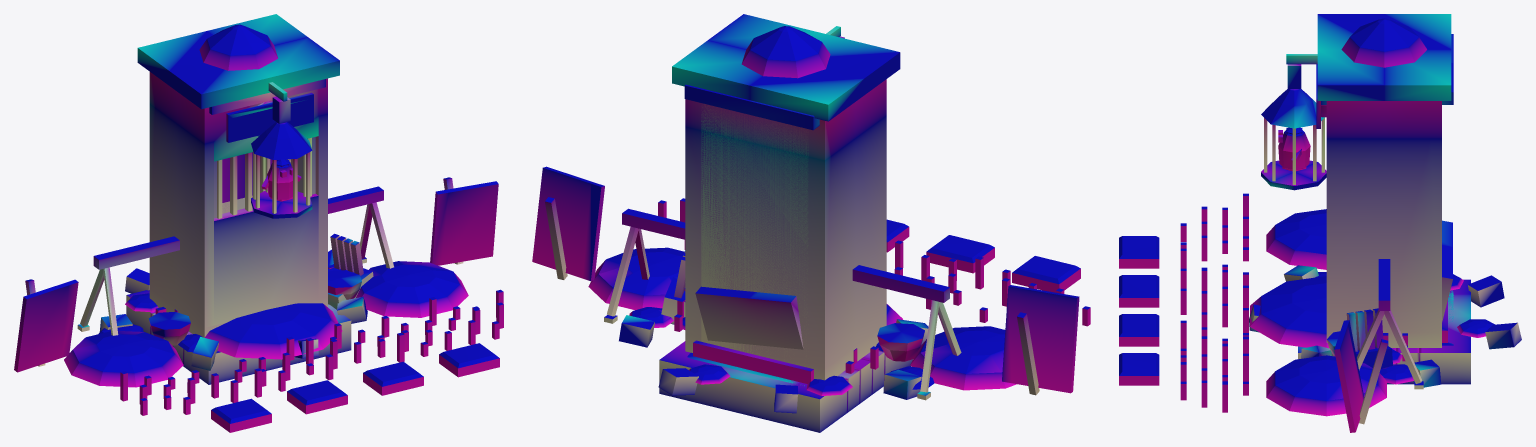
Rendered from uncanny_kit.glb.
3 views of the same model, side by side, from view 1: azimuth 30°, elevation 25°; view 2: azimuth 150°, elevation 25°; view 3: azimuth 270°, elevation 25° (orthographic). The views are drawn at different scales.
Visible parts, largest first — view 1: booth_testimony, offerings_heap, booth_line_of_dead, cage_trap, secreto_barrier, idol_surfacing, claw_scored_slab, cage_trap_lechuza, petals_marigold; view 2: booth_testimony, offerings_heap, booth_line_of_dead, idol_surfacing, claw_scored_slab, secreto_barrier, candles_drift, petals_marigold; view 3: booth_testimony, offerings_heap, idol_surfacing, cage_trap, booth_line_of_dead, claw_scored_slab, secreto_barrier, cage_trap_lechuza, petals_marigold, candles_drift.
Part boxes in pixels (x1=…): booth_testimony: x1=137, y1=14, x2=339, y2=337; offerings_heap: x1=14, y1=177, x2=503, y2=432; booth_line_of_dead: x1=199, y1=24, x2=325, y2=218; cage_trap: x1=237, y1=82, x2=312, y2=218; secreto_barrier: x1=77, y1=186, x2=393, y2=335; idol_surfacing: x1=99, y1=233, x2=373, y2=370; claw_scored_slab: x1=126, y1=290, x2=351, y2=384; cage_trap_lechuza: x1=261, y1=159, x2=301, y2=199; petals_marigold: x1=125, y1=293, x2=202, y2=352; booth_testimony: x1=672, y1=14, x2=900, y2=380; offerings_heap: x1=532, y1=166, x2=1090, y2=395; booth_line_of_dead: x1=684, y1=26, x2=830, y2=383; idol_surfacing: x1=619, y1=250, x2=928, y2=413; claw_scored_slab: x1=659, y1=341, x2=912, y2=432; secreto_barrier: x1=604, y1=208, x2=961, y2=400; candles_drift: x1=629, y1=298, x2=934, y2=389; petals_marigold: x1=682, y1=317, x2=883, y2=395; booth_testimony: x1=1317, y1=14, x2=1451, y2=347; offerings_heap: x1=1119, y1=193, x2=1388, y2=432; idol_surfacing: x1=1249, y1=220, x2=1521, y2=387; cage_trap: x1=1261, y1=54, x2=1326, y2=190; booth_line_of_dead: x1=1316, y1=18, x2=1453, y2=342; claw_scored_slab: x1=1298, y1=279, x2=1470, y2=384; secreto_barrier: x1=1357, y1=259, x2=1423, y2=389; cage_trap_lechuza: x1=1278, y1=128, x2=1310, y2=169; petals_marigold: x1=1315, y1=272, x2=1494, y2=363; candles_drift: x1=1379, y1=333, x2=1413, y2=384.
Bounding box in the file's own units: 5.02 × 3.22 × 3.49.
